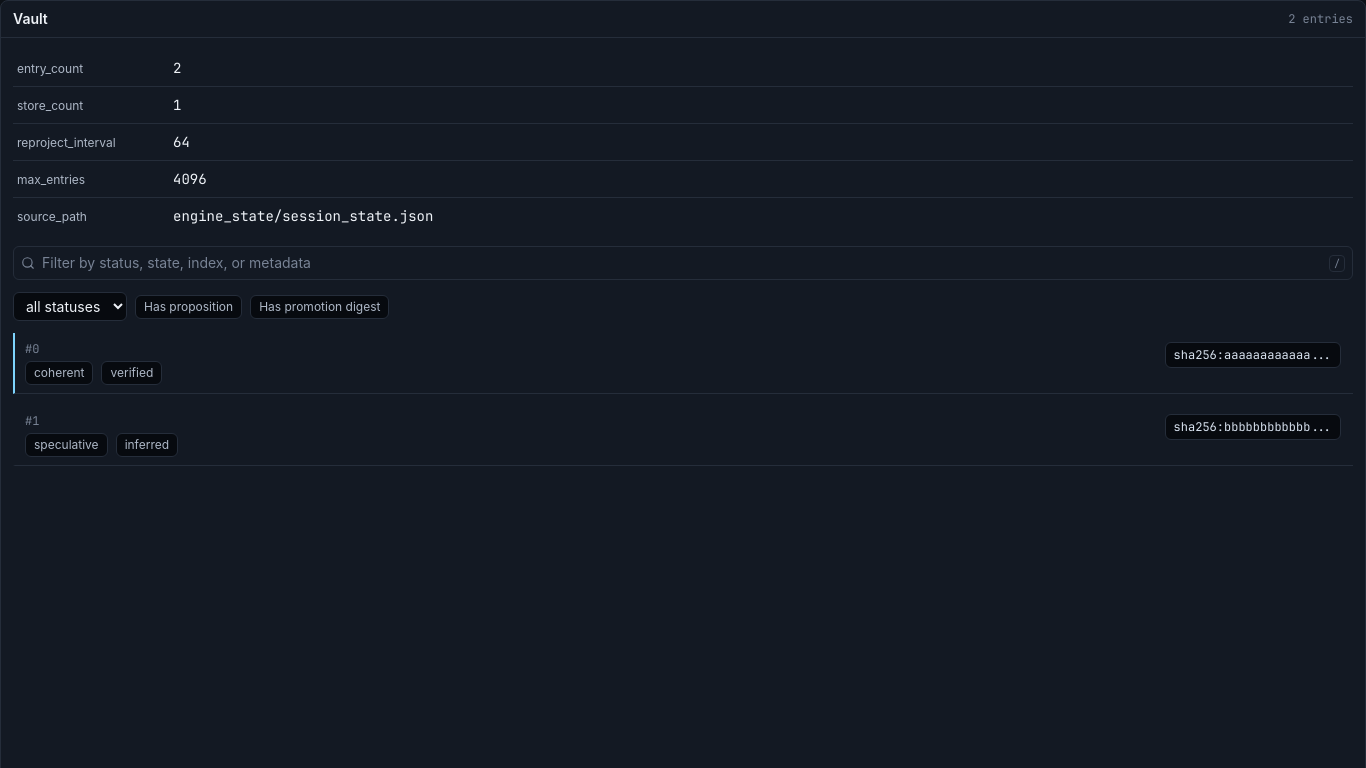
VaultRoute › 'Has promotion digest' facet keeps only certified entries
This screenshot has width=1366, height=768.
Expected: the text "entry_count" is shown, [17,61,83,76]
Click the switch labelled "Has promotion digest". click: (320, 306)
box: [250,294,389,318]
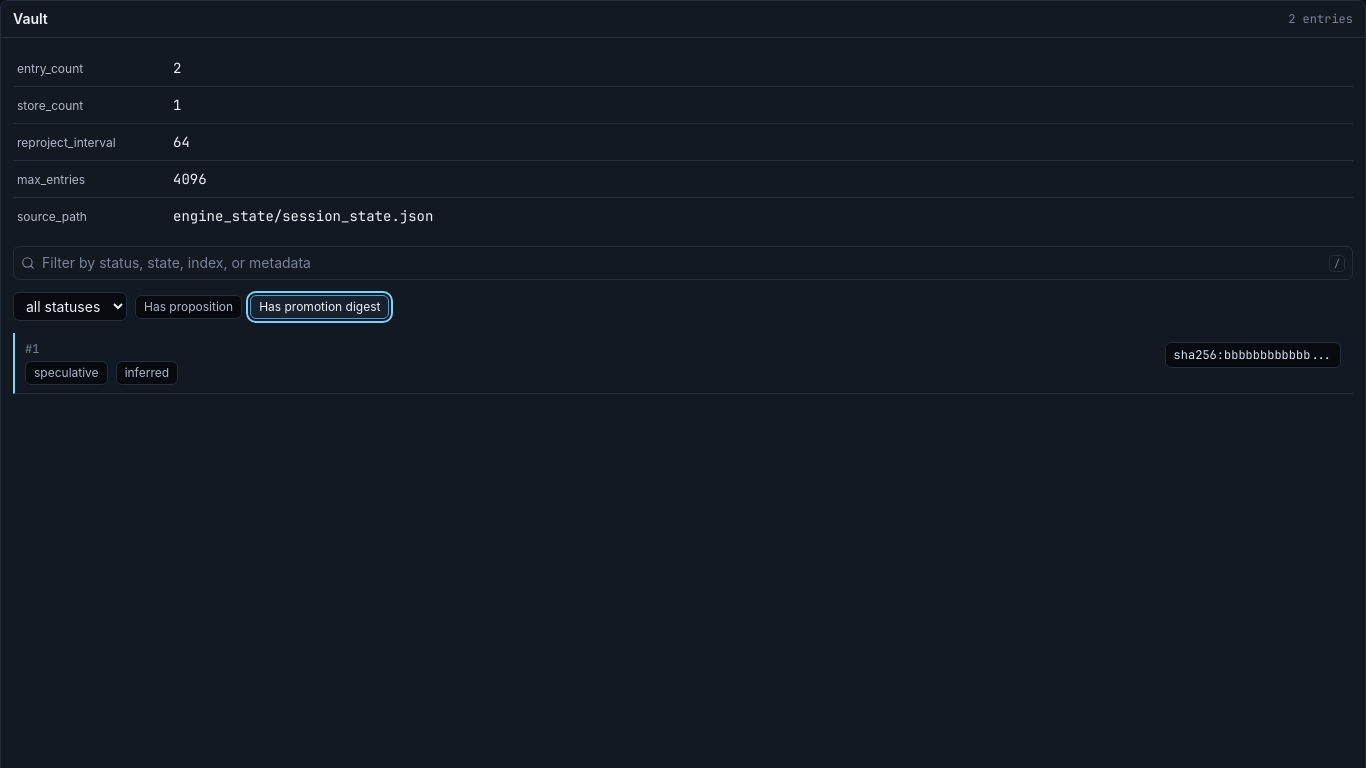
Expected: the option shows "inferred", [13,333,1353,394]
Expected: the number of options is 1, [13,333,1353,394]
